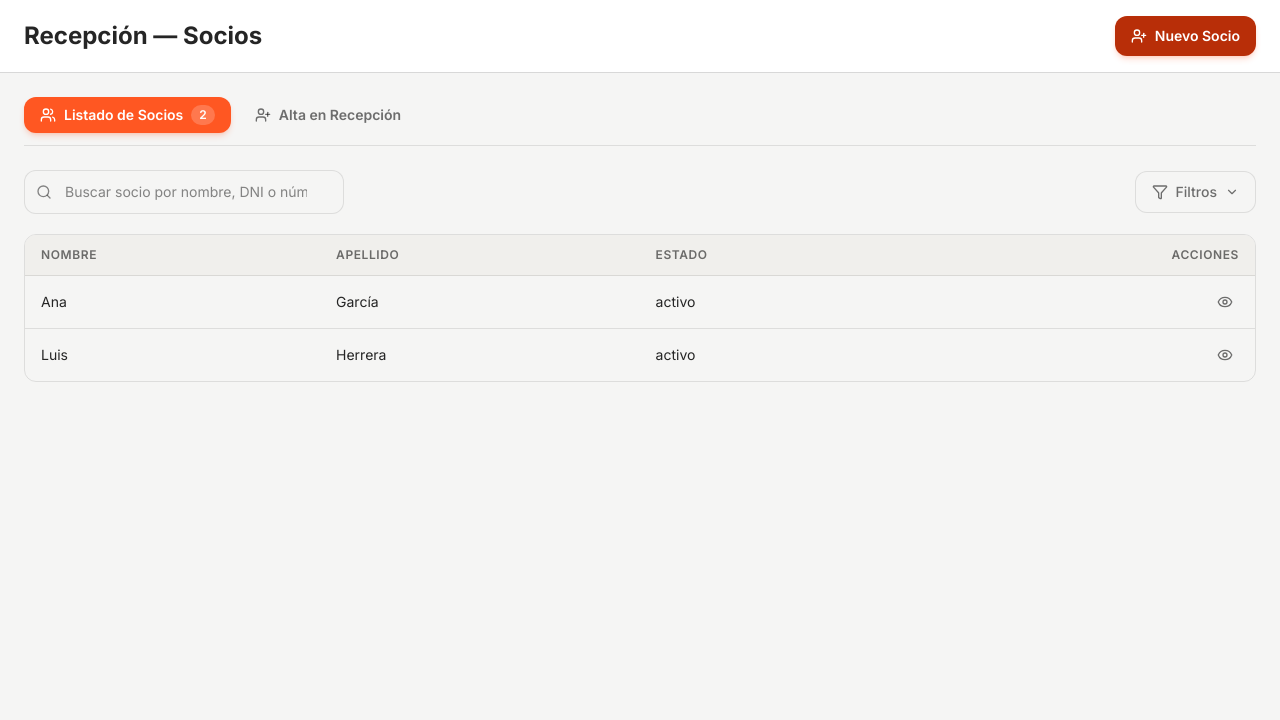
Test: GestionSociosPage › alta recepción shows partial failure UI when cobro fails
Click the tab "Alta en Recepción" at (328, 115), box [239,97,417,133]
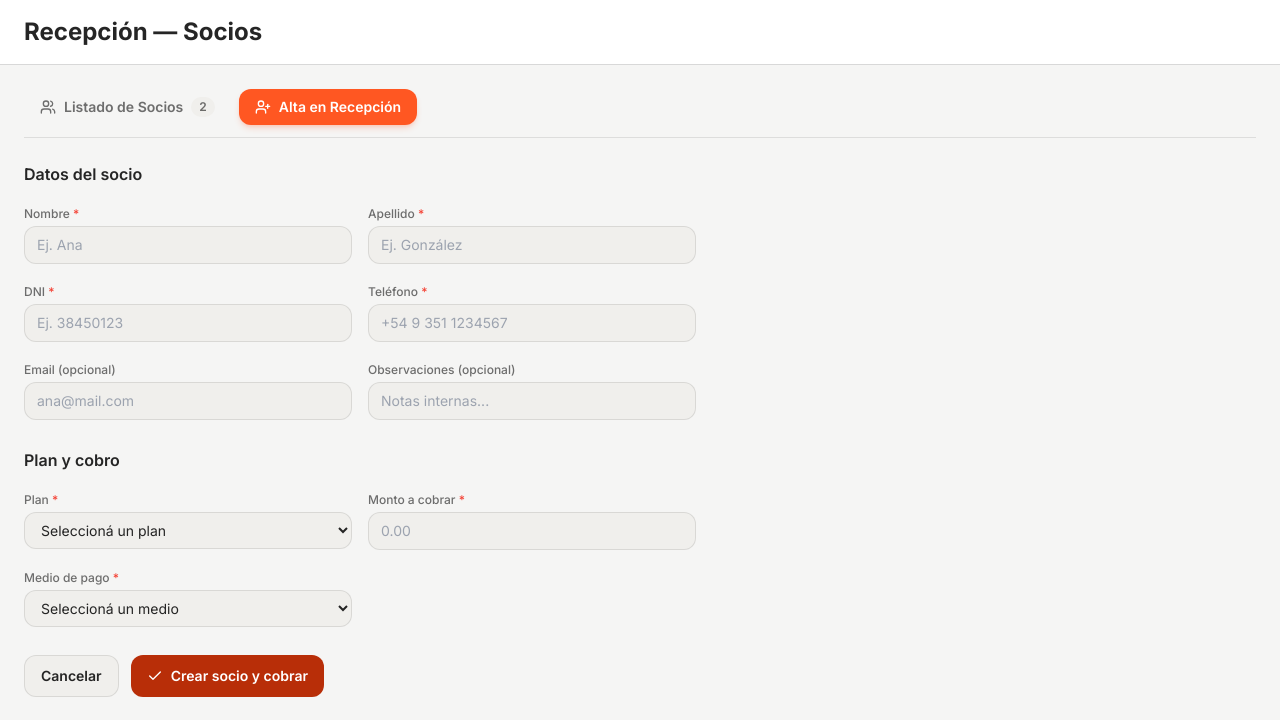
Expected: the dropdown with test id "plan-select" is shown, [24,512,352,549]
Fill form
Type "Eduardo" into the field with placeholder "Ej. Ana" at (188, 245), box [24,226,352,264]
Type "Nuevo" into the field with placeholder "Ej. González" at (532, 245), box [368,226,696,264]
Type "33333333" into the field with test id "dni-input" at (188, 323), box [24,304,352,342]
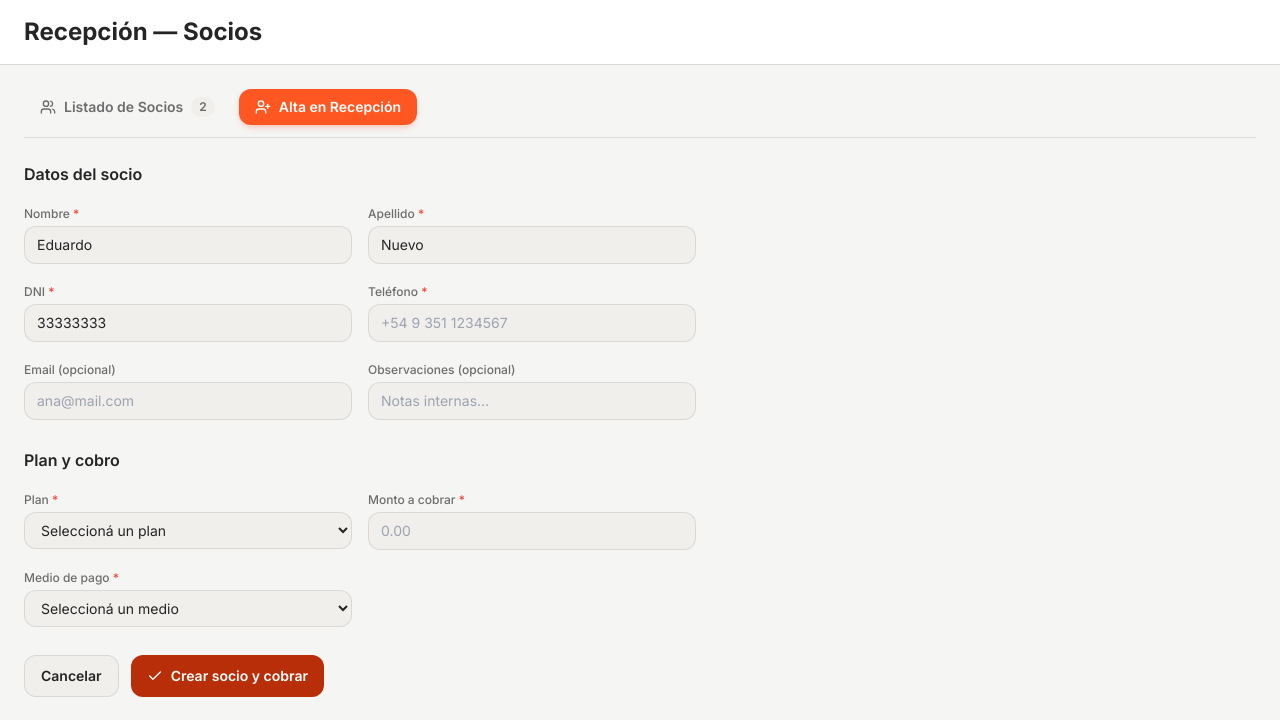
Type "+5493511234567" into the field with test id "telefono-input" at (532, 323), box [368,304,696,342]
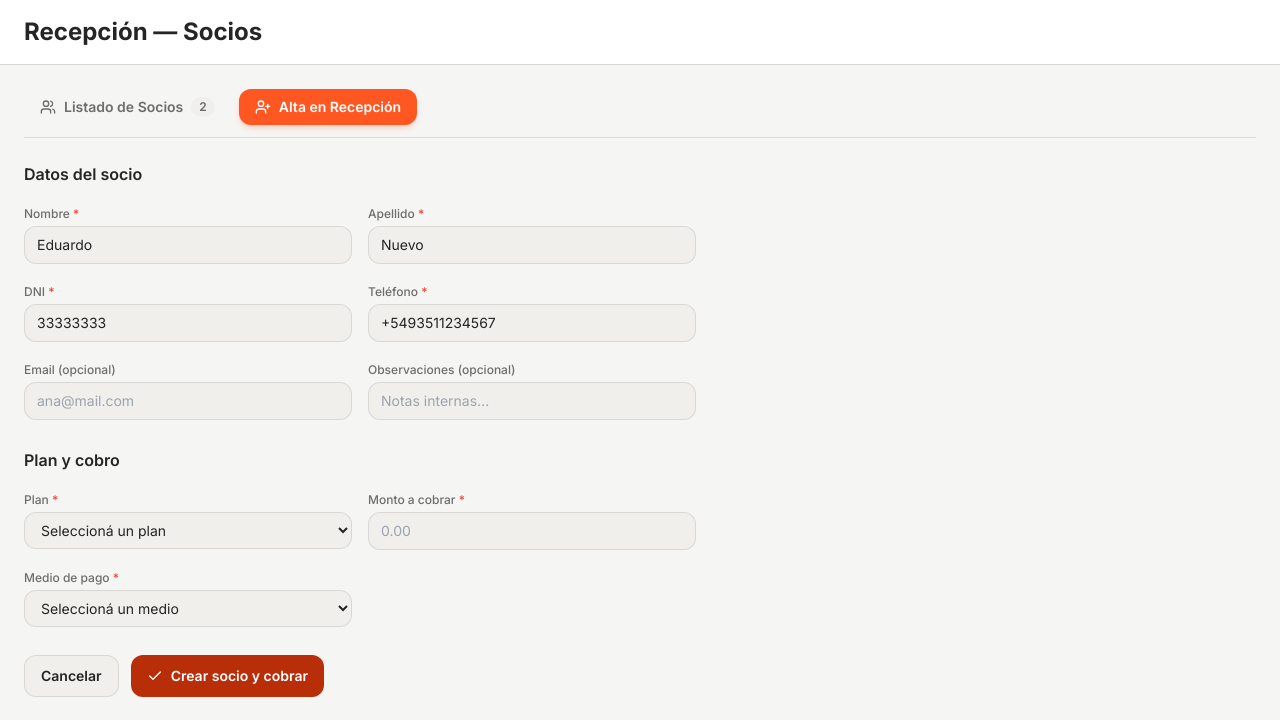
Select "Básico — $8000/mes" in the dropdown with test id "plan-select" at (188, 530), box [24,512,352,549]
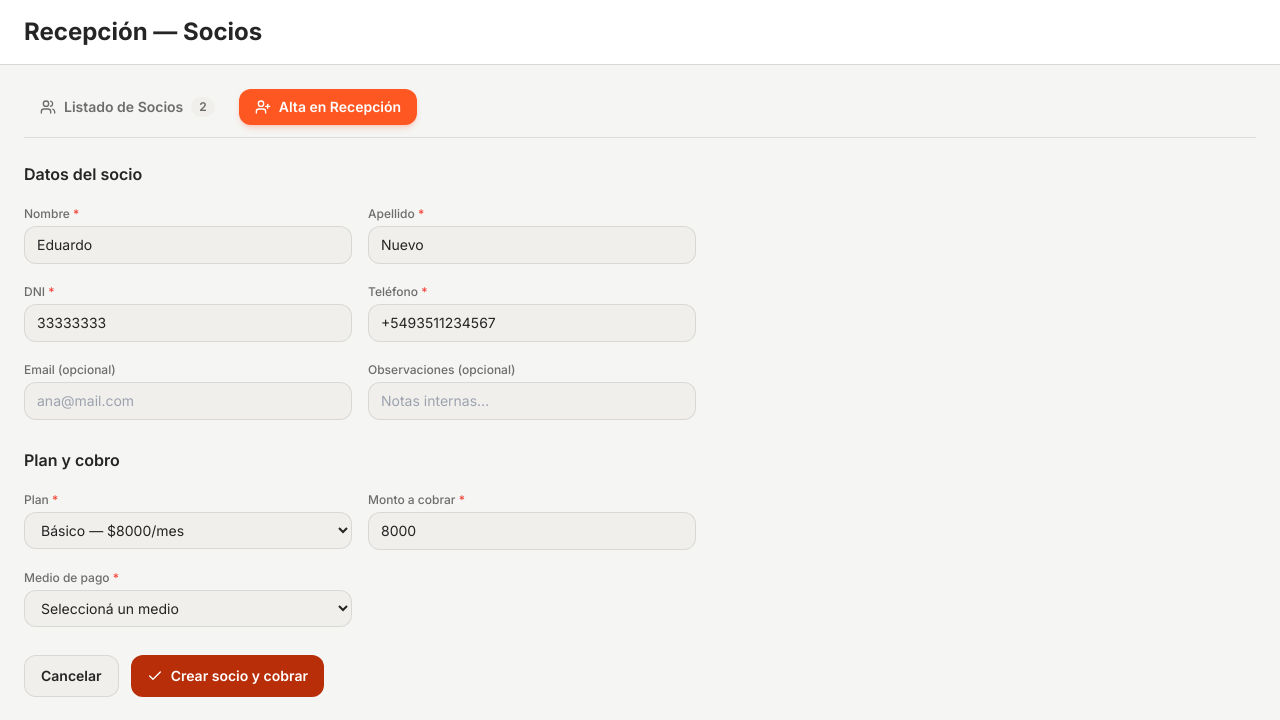
Select "Transferencia bancaria" in the dropdown with test id "medio-select" at (188, 608), box [24,590,352,627]
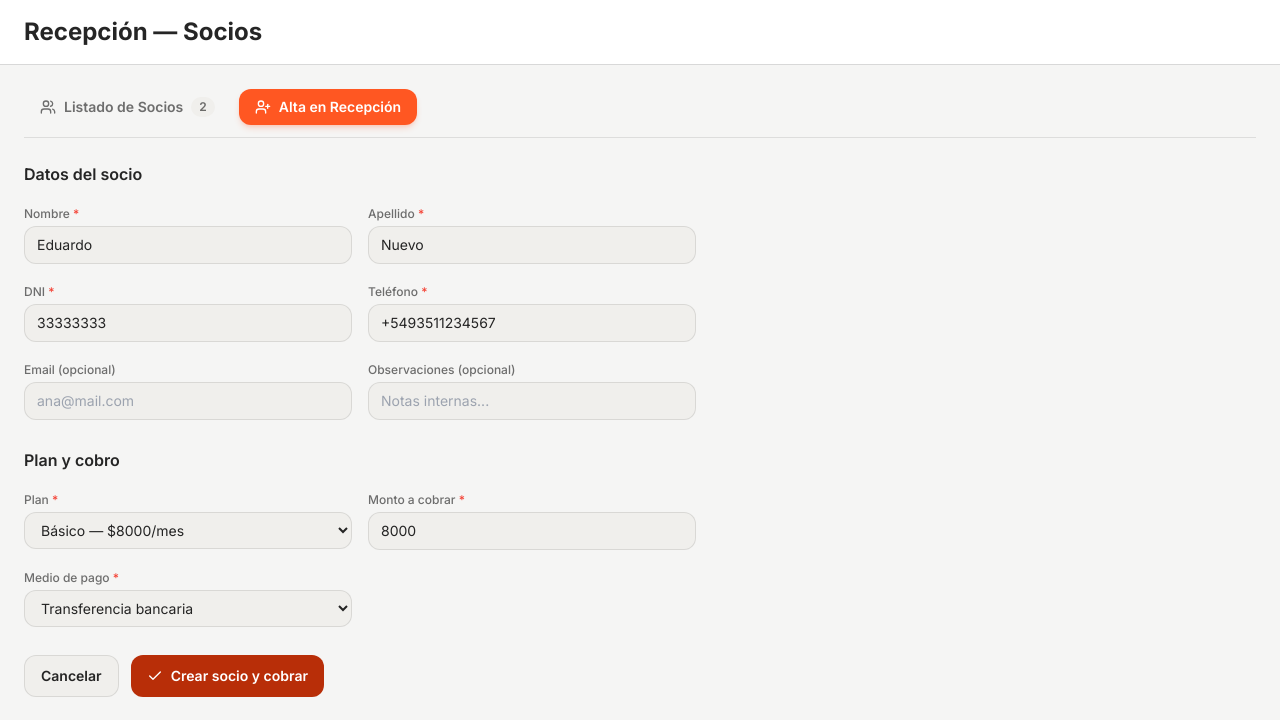
Click the button with test id "submit-alta" at (227, 676), box [131,655,324,697]
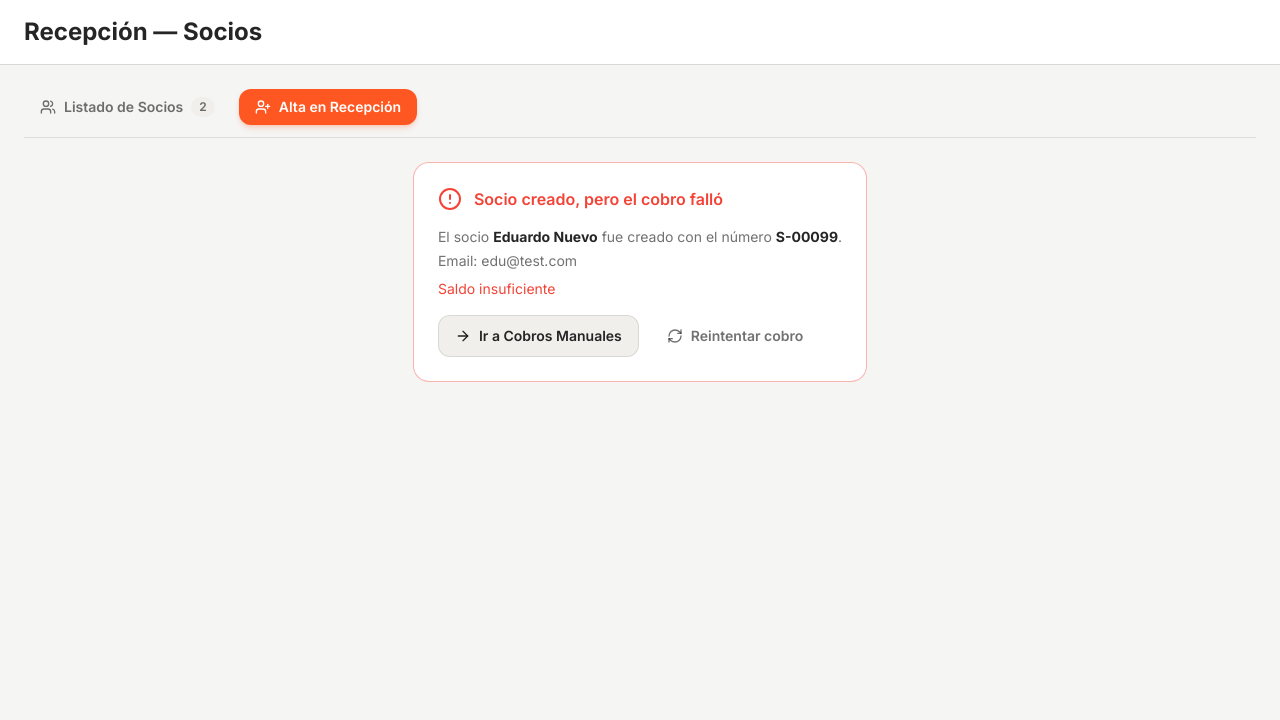
Expected: the element with test id "partial-failure-card" is shown, [413,162,867,382]
Expected: the button "Ir a Cobros Manuales" is shown, [438,315,639,357]
Expected: the text "Saldo insuficiente" is shown, [438,280,556,297]
